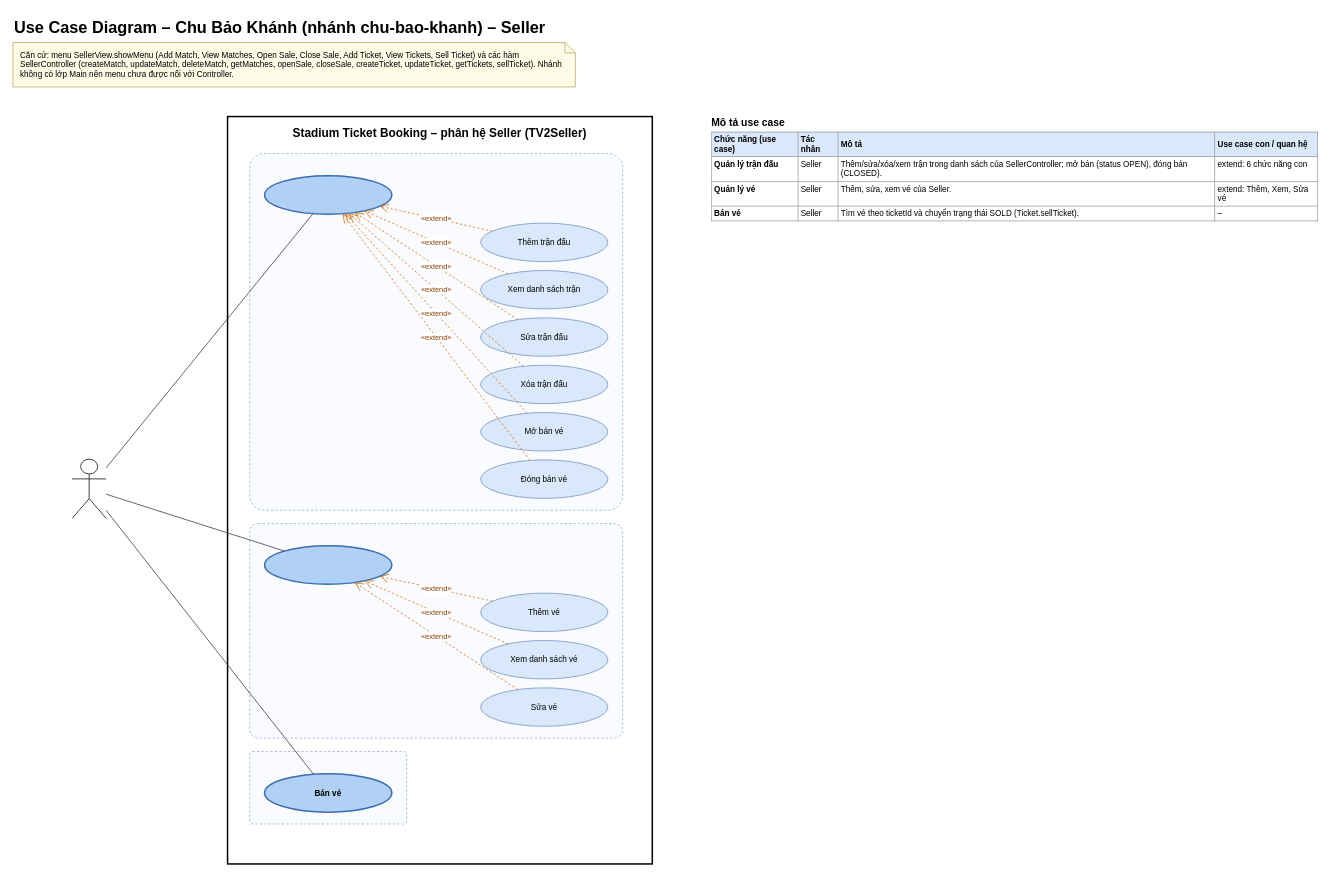
The diagram is 1331 pixels wide and 877 high, and some of its shapes have lost their labels. Each missing label, with the box of its shape:
Chức năng lớn 1: Quản lý trận đấu: (249, 153, 623, 510)
Chức năng lớn 2: Quản lý vé: (249, 523, 623, 738)
Chức năng lớn 3: Bán vé: (249, 751, 407, 824)
Quản lý trận đấu: (263, 175, 392, 215)
Quản lý vé: (263, 545, 392, 585)
Seller: (71, 458, 106, 518)
